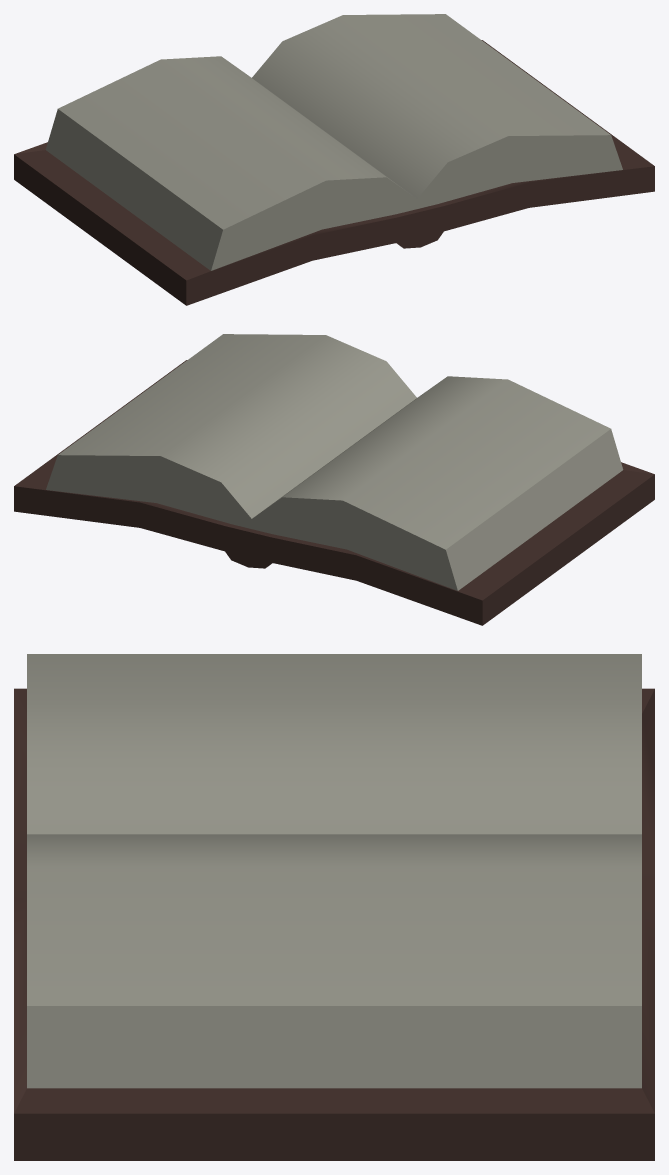
Rendered from prop_Book.fbx.
The picture shows the model from 3 angles, top to bottom: view 1: azimuth 30°, elevation 25°; view 2: azimuth 150°, elevation 25°; view 3: azimuth 270°, elevation 25°; orthographic projection. The views are drawn at different scales.
Parts seen in each view (by area): view 1: book; view 2: book; view 3: book.
Boxes of the visible parts, <box> form: book: <box>14,14,654,305</box>; book: <box>14,334,654,625</box>; book: <box>14,654,654,1160</box>.
Bounding box in the file's own units: 15.81 × 2.83 × 10.08.
